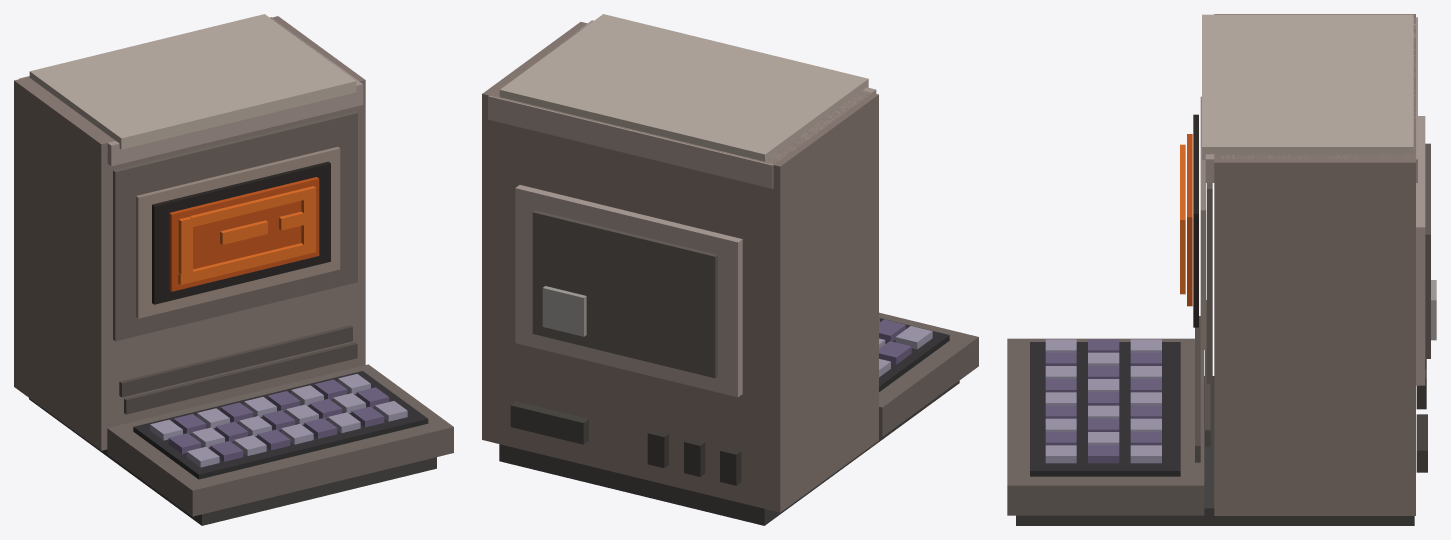
Rendered from CMU3DAmberDepartmentTerminal.glb.
The picture shows the model from 3 angles, left to right: view 1: azimuth 30°, elevation 25°; view 2: azimuth 150°, elevation 25°; view 3: azimuth 270°, elevation 25°; orthographic projection. The views are drawn at different scales.
Parts seen in each view (by area): view 1: terminal main shell, top cap highlight, monitor front bezel, keyboard base, lower CRT face slope (×2), monitor inner raised rim, CRT display, screen black surround, orange terminal glyph (×5), dark keyboard tray, upper monitor cap, terminal foot; view 2: terminal main shell, top cap highlight, rear service hatch, rear service hatch border, upper monitor cap, terminal foot, keyboard base, rear lower vent (×3), rear connector recess, rear pale service label, dark keyboard tray, separate keyboard key; view 3: terminal main shell, top cap highlight, keyboard base, dark keyboard tray, terminal foot, rear service hatch border, separate keyboard key (×3), monitor inner raised rim, lower CRT face slope (×2), rear service hatch, screen black surround, monitor front bezel (+3 smaller).
Boxes of the visible parts, x1,y1,x2,y2 form: terminal main shell: (14, 16, 365, 450); top cap highlight: (29, 14, 356, 149); monitor front bezel: (113, 111, 357, 341); keyboard base: (107, 364, 453, 516); lower CRT face slope (×2): (119, 325, 357, 414); monitor inner raised rim: (136, 147, 340, 318); CRT display: (169, 177, 319, 291); screen black surround: (152, 161, 330, 304); orange terminal glyph (×5): (178, 186, 315, 284); dark keyboard tray: (133, 371, 428, 479); upper monitor cap: (19, 17, 363, 166); terminal foot: (29, 398, 436, 525); terminal main shell: (482, 22, 878, 512); top cap highlight: (499, 14, 868, 161); rear service hatch: (532, 210, 717, 378); rear service hatch border: (515, 185, 742, 397); upper monitor cap: (488, 20, 876, 188); terminal foot: (499, 380, 959, 525); keyboard base: (879, 312, 978, 436); rear lower vent (×3): (647, 429, 741, 485); rear connector recess: (510, 401, 588, 444); rear pale service label: (542, 286, 586, 336); dark keyboard tray: (879, 318, 949, 391); separate keyboard key: (895, 326, 932, 349); terminal main shell: (1214, 14, 1415, 515); top cap highlight: (1202, 14, 1413, 159); keyboard base: (1007, 338, 1204, 515); dark keyboard tray: (1030, 342, 1180, 476); terminal foot: (1016, 376, 1414, 525); rear service hatch border: (1416, 116, 1425, 385); separate keyboard key (×3): (1045, 445, 1161, 463); monitor inner raised rim: (1200, 96, 1206, 349); lower CRT face slope (×2): (1195, 300, 1210, 462); rear service hatch: (1425, 143, 1430, 358); screen black surround: (1193, 114, 1198, 327); monitor front bezel: (1207, 183, 1212, 383).
Size of the model in its own units: 0.562 by 0.668 by 0.686.
